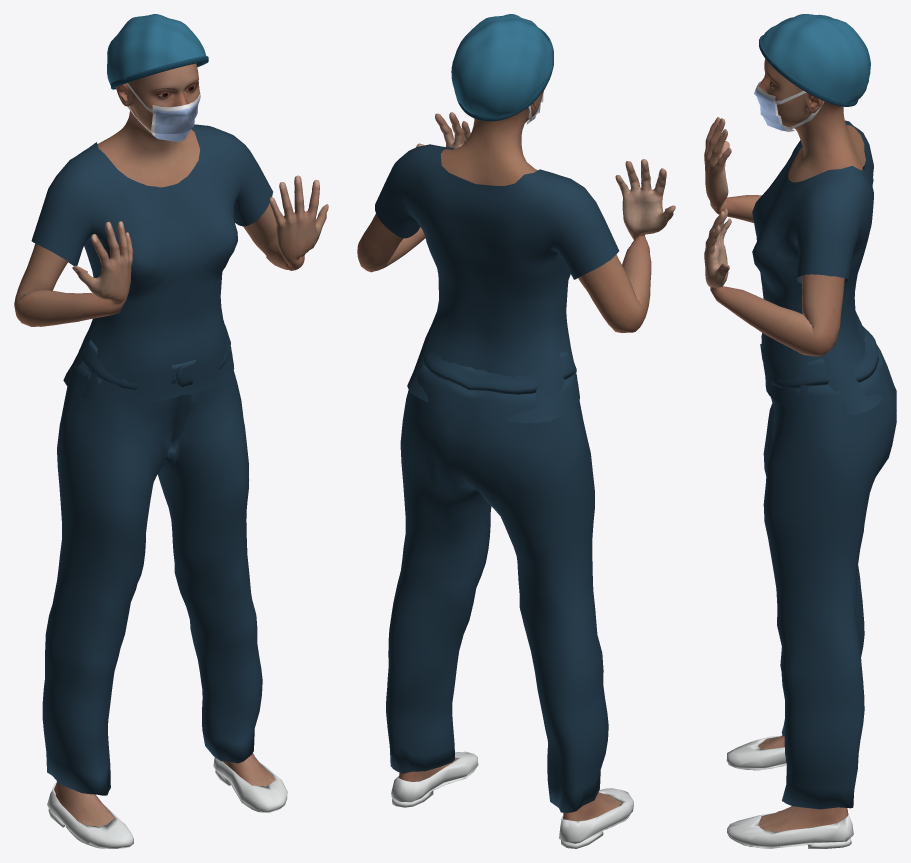
The model's file is paso-1.glb.
3 renders of one model, left to right at view 1: azimuth 30°, elevation 25°; view 2: azimuth 150°, elevation 25°; view 3: azimuth 270°, elevation 25°, orthographic.
Parts seen in each view (by area): view 1: Human.toigo_wool_pants-static, Human.joepal_crude_t-shirt_female-static, Human-static, surgical-cap, Human.toigo_flats-static, Human.joepal_medical_mouth_protection-static, cap-elastic; view 2: Human.toigo_wool_pants-static, Human.joepal_crude_t-shirt_female-static, Human-static, surgical-cap, Human.toigo_flats-static; view 3: Human.toigo_wool_pants-static, Human.joepal_crude_t-shirt_female-static, Human-static, surgical-cap, Human.toigo_flats-static, Human.joepal_medical_mouth_protection-static, cap-elastic.
Boxes of the visible parts, x1,y1,x2,y2 form: Human.toigo_wool_pants-static: (42,325,262,795); Human.joepal_crude_t-shirt_female-static: (31,124,272,403); Human-static: (14,63,328,826); surgical-cap: (107,14,206,85); Human.toigo_flats-static: (47,757,287,848); Human.joepal_medical_mouth_protection-static: (126,83,200,141); cap-elastic: (111,56,208,89); Human.toigo_wool_pants-static: (386,350,608,812); Human.joepal_crude_t-shirt_female-static: (375,144,619,422); Human-static: (357,90,675,821); surgical-cap: (451,14,552,117); Human.toigo_flats-static: (391,751,633,848); Human.toigo_wool_pants-static: (760,326,896,809); Human.joepal_crude_t-shirt_female-static: (752,120,882,415); Human-static: (704,59,865,831); surgical-cap: (761,14,870,104); Human.toigo_flats-static: (726,735,853,848); Human.joepal_medical_mouth_protection-static: (754,81,824,131); cap-elastic: (759,35,858,106).
Bounding box in the file's own units: 0.6362 × 1.7 × 0.3792.
Materials: 14 (9 with a texture image).
